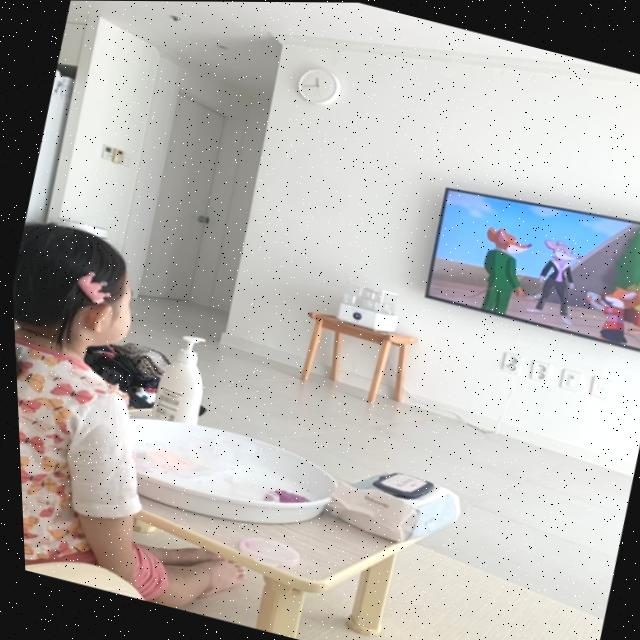tv-person: (1, 41, 640, 640)
